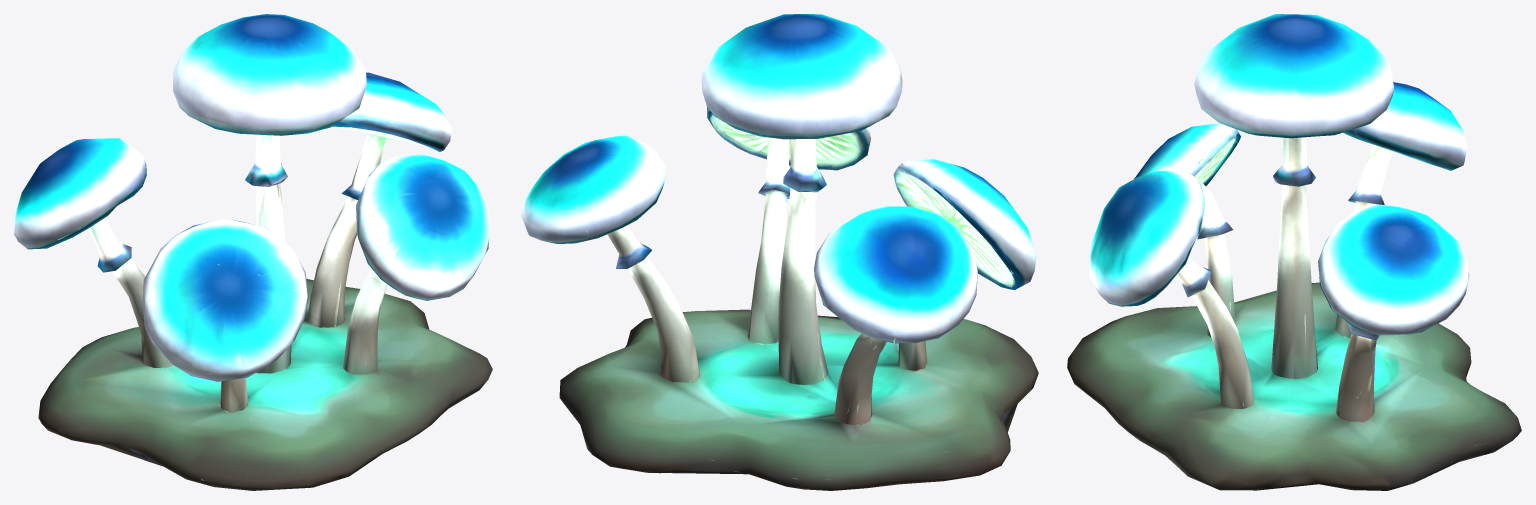
3 views of the same model, side by side, from view 1: azimuth 30°, elevation 25°; view 2: azimuth 150°, elevation 25°; view 3: azimuth 270°, elevation 25° (orthographic). The views are drawn at different scales.
Visible parts, largest first — view 1: Mesh_0; view 2: Mesh_0; view 3: Mesh_0.
Part boxes in pixels (left/top/right/bottom): Mesh_0: left=14, top=14, right=492, bottom=490; Mesh_0: left=521, top=14, right=1038, bottom=490; Mesh_0: left=1067, top=14, right=1521, bottom=490.
Bounding box in the file's own units: 1.92 × 1.57 × 1.74.
Materials: 1 (1 with a texture image).
